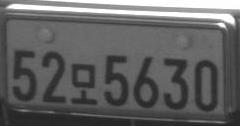0: (193, 59, 218, 111)
2: (41, 51, 66, 103)
3: (163, 58, 188, 109)
5: (10, 50, 37, 101), (103, 55, 128, 106)
6: (132, 56, 159, 108)
모: (70, 63, 97, 105)
